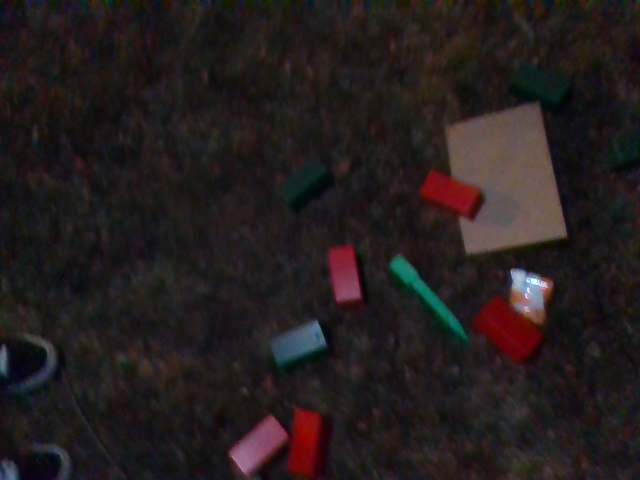Probe: (378, 244, 474, 346)
